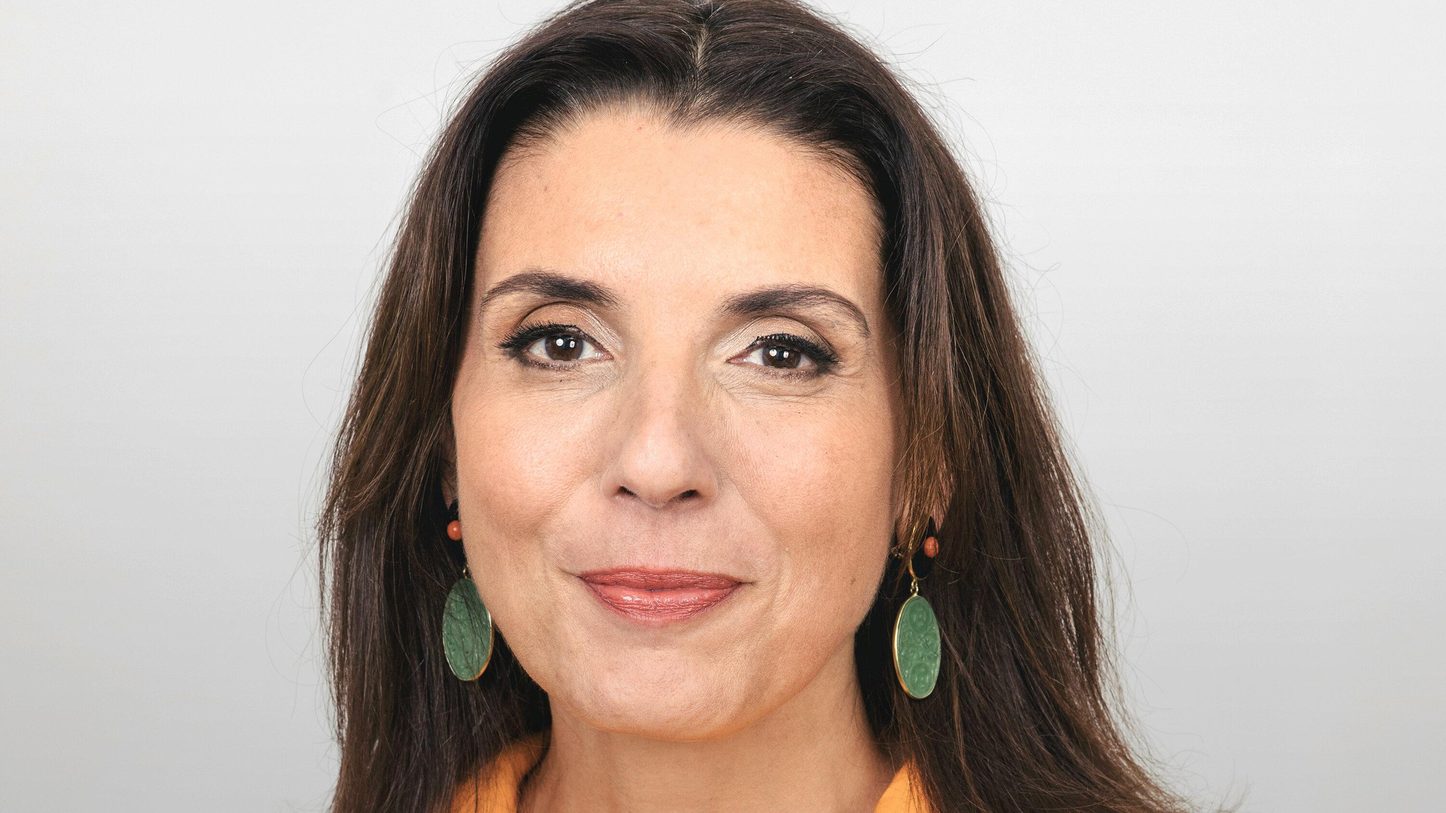Persons: (381, 0, 971, 770)
